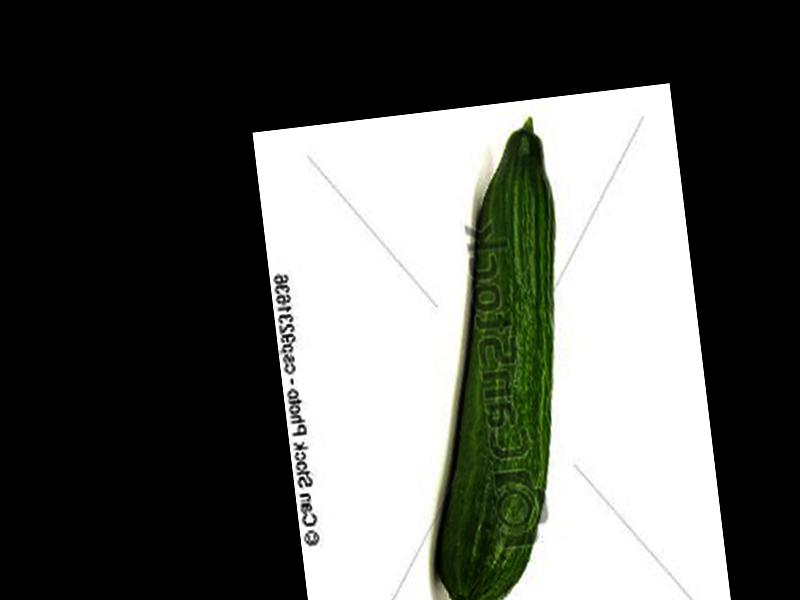Cucumber: (386, 117, 597, 600)
